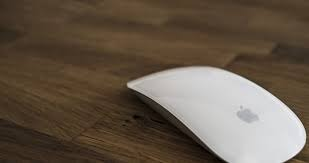mouse: (121, 61, 309, 163)
